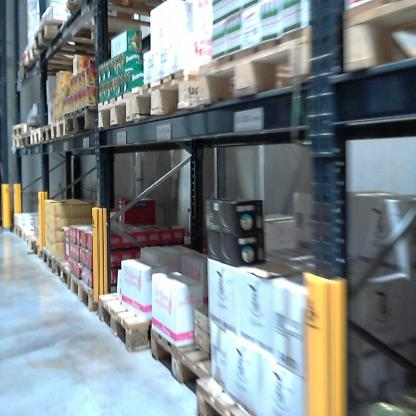pallet: (193, 20, 314, 112), (146, 325, 235, 401), (62, 0, 204, 45), (342, 5, 415, 81), (133, 51, 196, 128), (95, 292, 160, 361), (36, 15, 122, 60), (26, 37, 121, 77), (67, 271, 134, 320), (94, 77, 141, 133), (192, 375, 257, 415), (50, 259, 92, 305), (64, 98, 99, 141), (51, 108, 69, 141), (39, 244, 56, 272), (27, 122, 42, 152), (9, 119, 25, 138), (27, 239, 39, 261), (41, 121, 52, 144), (21, 138, 31, 152)
